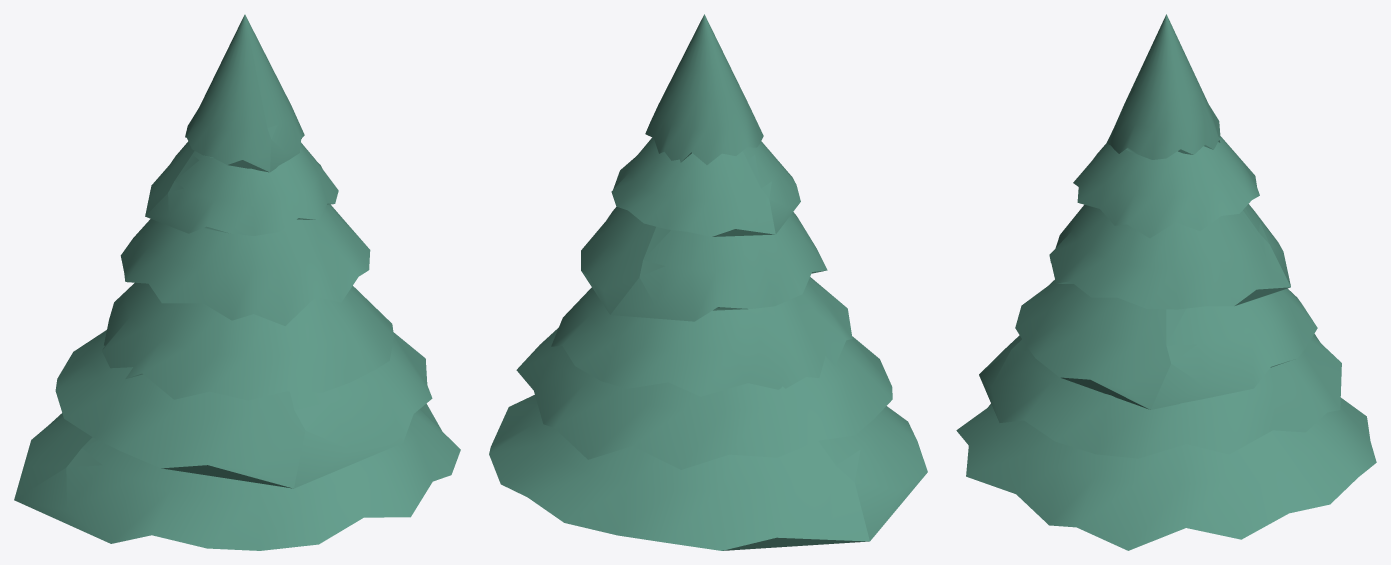
The model's file is asset.glb.
The picture shows the model from 3 angles, left to right: view 1: azimuth 30°, elevation 25°; view 2: azimuth 150°, elevation 25°; view 3: azimuth 270°, elevation 25°; orthographic projection. The views are drawn at different scales.
Visible parts, largest first — view 1: Cone006, Cone005, Cone004, Cone003, Cone002, Cone001; view 2: Cone006, Cone005, Cone004, Cone003, Cone002, Cone001; view 3: Cone006, Cone004, Cone005, Cone003, Cone002, Cone001.
Part boxes in pixels (x1,y1,x2,y2): Cone006: (14, 403, 460, 550); Cone005: (55, 330, 432, 488); Cone004: (102, 282, 393, 400); Cone003: (120, 204, 370, 325); Cone002: (145, 141, 338, 235); Cone001: (185, 14, 304, 172); Cone006: (489, 395, 927, 550); Cone005: (516, 327, 892, 469); Cone004: (551, 277, 852, 396); Cone003: (581, 206, 827, 321); Cone002: (611, 137, 800, 236); Cone001: (645, 14, 763, 164); Cone006: (956, 397, 1376, 550); Cone004: (1015, 280, 1317, 409); Cone005: (979, 334, 1341, 458); Cone003: (1049, 204, 1290, 309); Cone002: (1073, 136, 1259, 238); Cone001: (1106, 14, 1220, 159).
Size of the model in its own units: 40.04 by 49.1 by 38.66.
